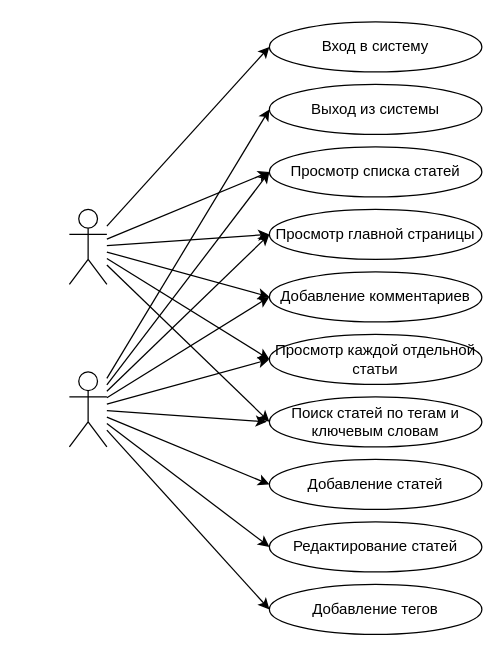
Image size: 504x656. Some labels were removed from this diagram. The shapes that lost their labels are listed below. From the top down, each one's centre as x and y in pixels, then its label:
pixel 87 246: Неавторизованный пользователь
pixel 87 409: Авторизованный пользователь
